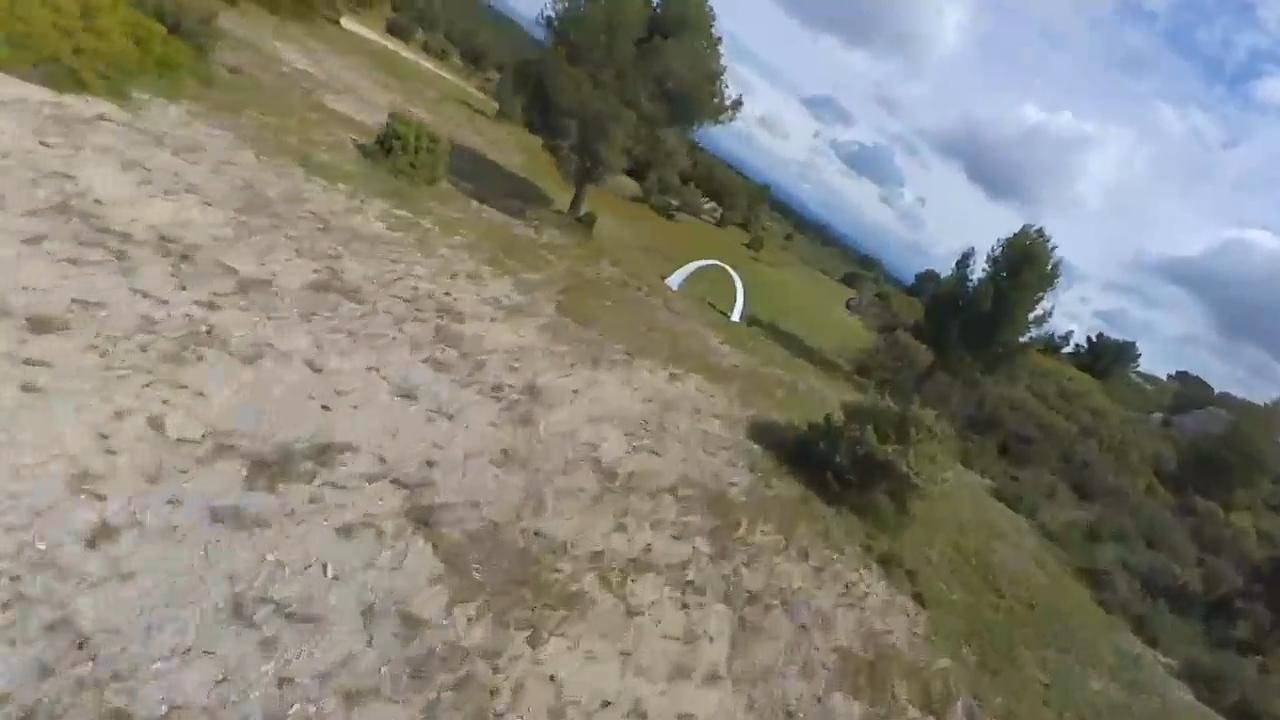gate: (663, 257, 747, 325)
